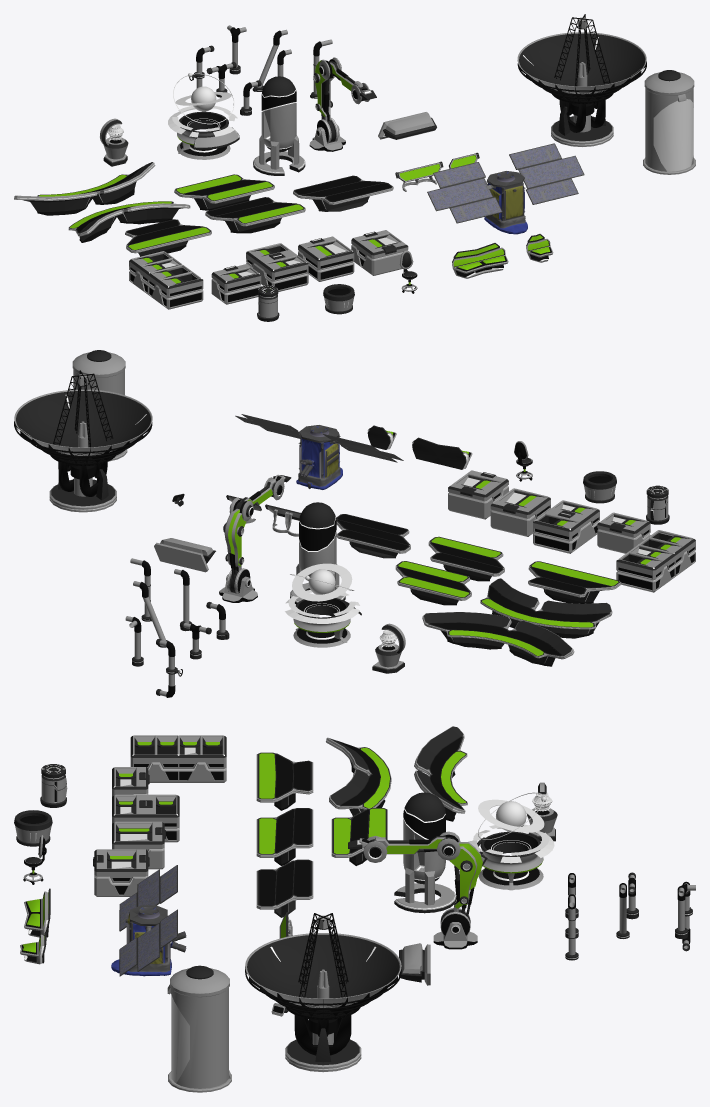
File: SpaceBase_Props01.FBX
3 views of the same model, one above another, from view 1: azimuth 30°, elevation 25°; view 2: azimuth 150°, elevation 25°; view 3: azimuth 270°, elevation 25° (orthographic). The views are drawn at different scales.
Visible parts, largest first — view 1: 70m_rev_e., Solarpan1, Capsule001, Box029, Box008, SpaceSuit00, Cylinder002, Box007, Box004, Box003, Box006, Box020 (+19 smaller); view 2: 70m_rev_e., Box008, Box007, Solarpan1, Box029, Box020, Box005, Capsule001, Box006, Box003, Box004, Cylinder006 (+16 smaller); view 3: 70m_rev_e., Cylinder002, Solarpan1, Box029, Capsule001, Box008, Cylinder006, Box007, Box005, Box004, Box003, Box026 (+19 smaller).
Boxes of the visible parts, <box> form: 70m_rev_e.: <box>517,14,646,132</box>; Solarpan1: <box>427,143,584,234</box>; Capsule001: <box>259,76,299,169</box>; Box029: <box>129,251,203,309</box>; Box008: <box>14,162,155,215</box>; SpaceSuit00: <box>654,99,693,171</box>; Cylinder002: <box>644,70,694,171</box>; Box007: <box>68,201,190,242</box>; Box004: <box>205,197,305,233</box>; Box003: <box>293,175,393,211</box>; Box006: <box>174,174,274,210</box>; Box020: <box>246,243,308,291</box>; 70m_rev_e.: <box>14,370,152,496</box>; Box008: <box>422,612,574,666</box>; Box007: <box>480,578,612,638</box>; Solarpan1: <box>235,414,403,489</box>; Box029: <box>616,530,695,592</box>; Box020: <box>533,500,599,553</box>; Box005: <box>528,561,620,603</box>; Capsule001: <box>296,502,339,591</box>; Box006: <box>395,561,471,605</box>; Box003: <box>336,514,410,558</box>; Box004: <box>428,536,504,581</box>; Cylinder006: <box>293,598,350,647</box>; 70m_rev_e.: <box>245,913,401,1055</box>; Cylinder002: <box>167,965,229,1088</box>; Solarpan1: <box>111,865,186,976</box>; Box029: <box>130,735,226,782</box>; Capsule001: <box>403,792,445,905</box>; Box008: <box>414,726,467,821</box>; Cylinder006: <box>478,831,543,890</box>; Box007: <box>326,737,391,815</box>; Box005: <box>256,752,313,810</box>; Box004: <box>256,808,313,865</box>; Box003: <box>256,859,313,917</box>; Box026: <box>93,849,149,896</box>.
Bounding box in the file's own units: 466 × 106 × 398.
